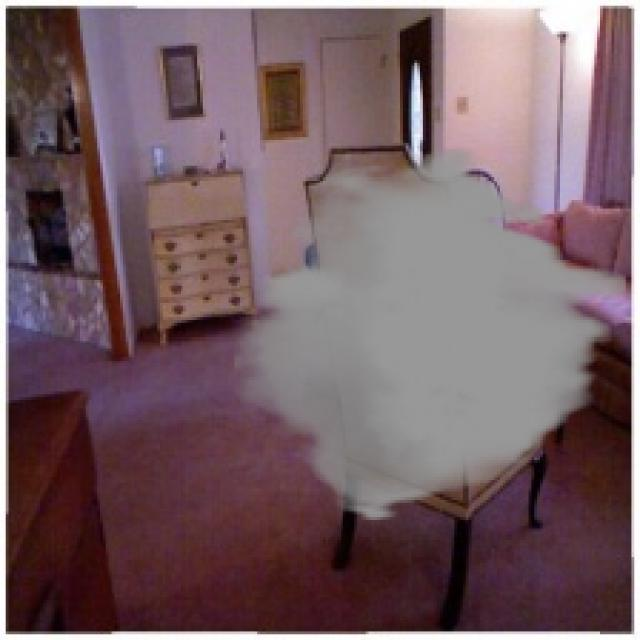Smoke: (234, 146, 626, 523)
